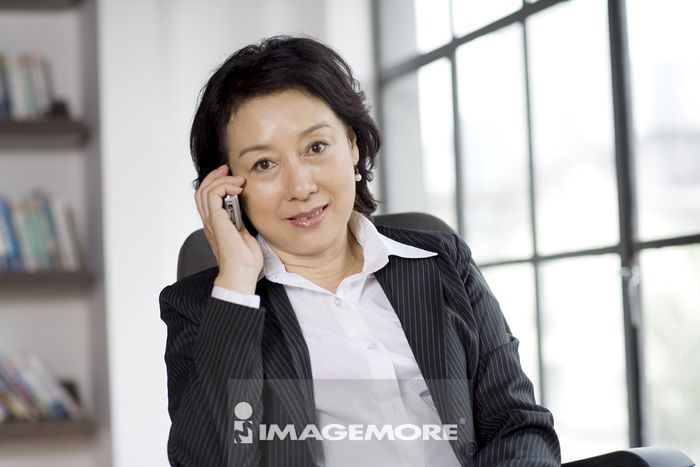talk: (193, 121, 344, 268)
